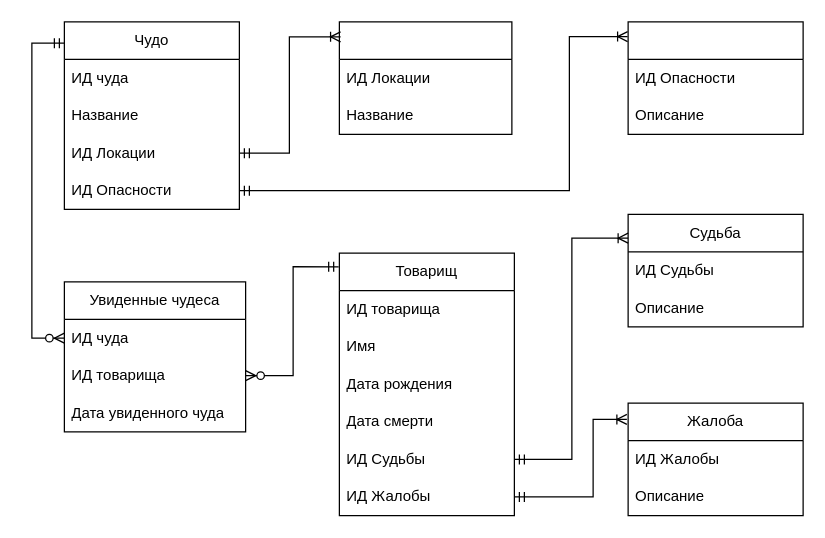
The diagram is 825 pixels wide and 538 high, and some of its shapes have lost their labels. Each missing label, with the box of its shape:
Локация: (338, 21, 512, 134)
Опасность: (627, 21, 803, 134)
